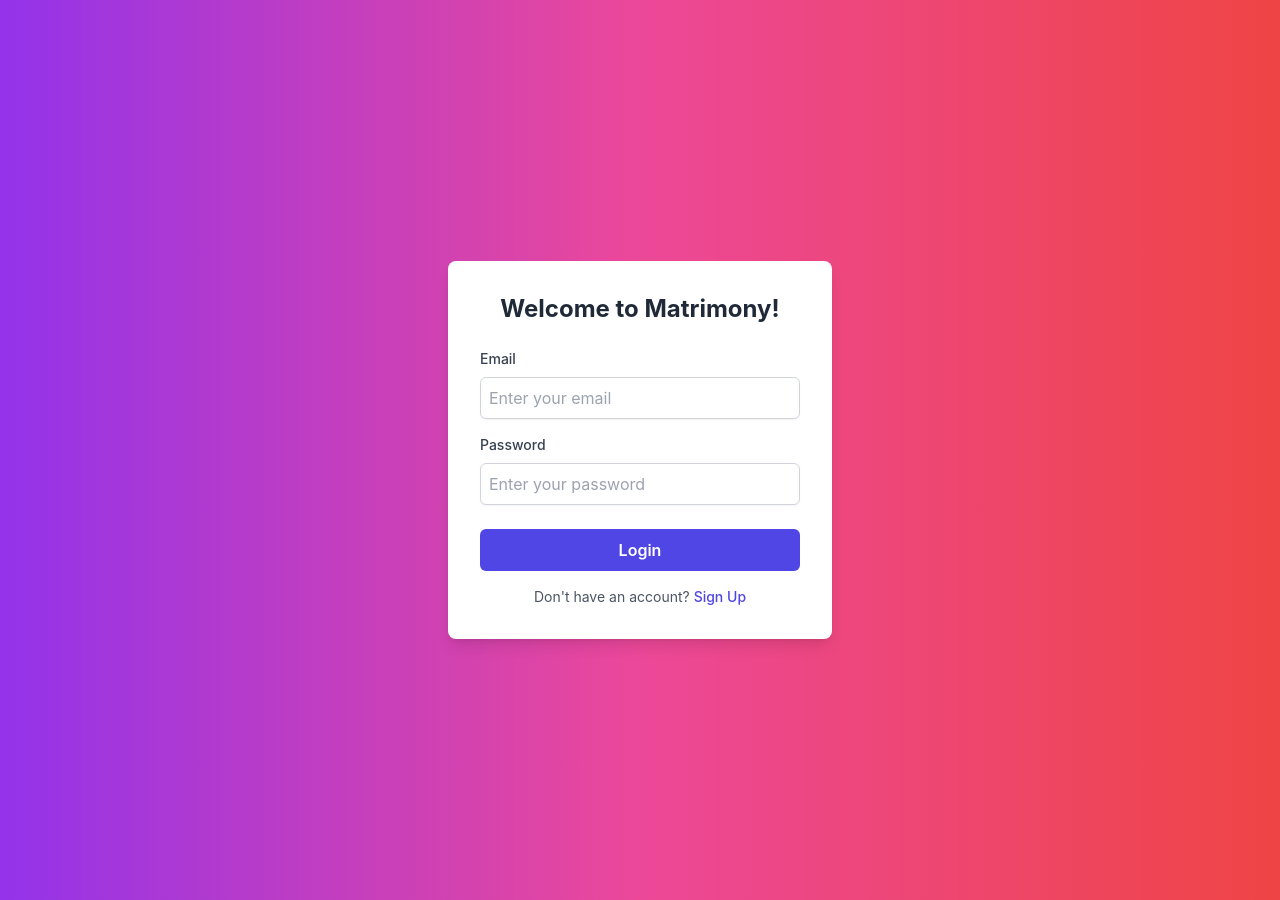
Test: LoginPage › shows validation errors for empty fields
The image size is (1280, 900).
Click the button "Login" at (640, 550), box [480,529,800,571]
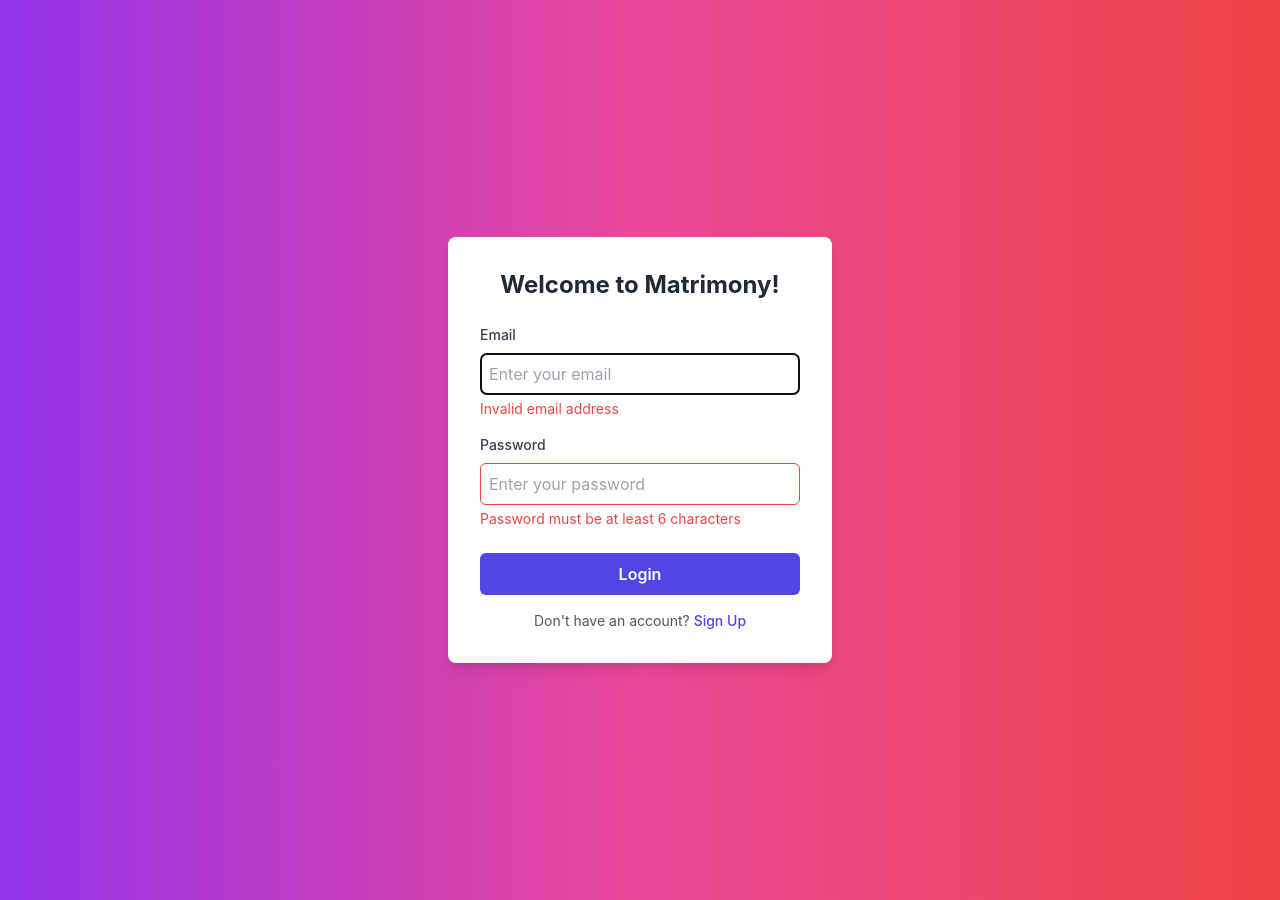
Now the text "Invalid email address" is shown, box [480,400,619,417]
Now the text "Password must be at least 6 characters" is shown, box [480,510,741,527]
